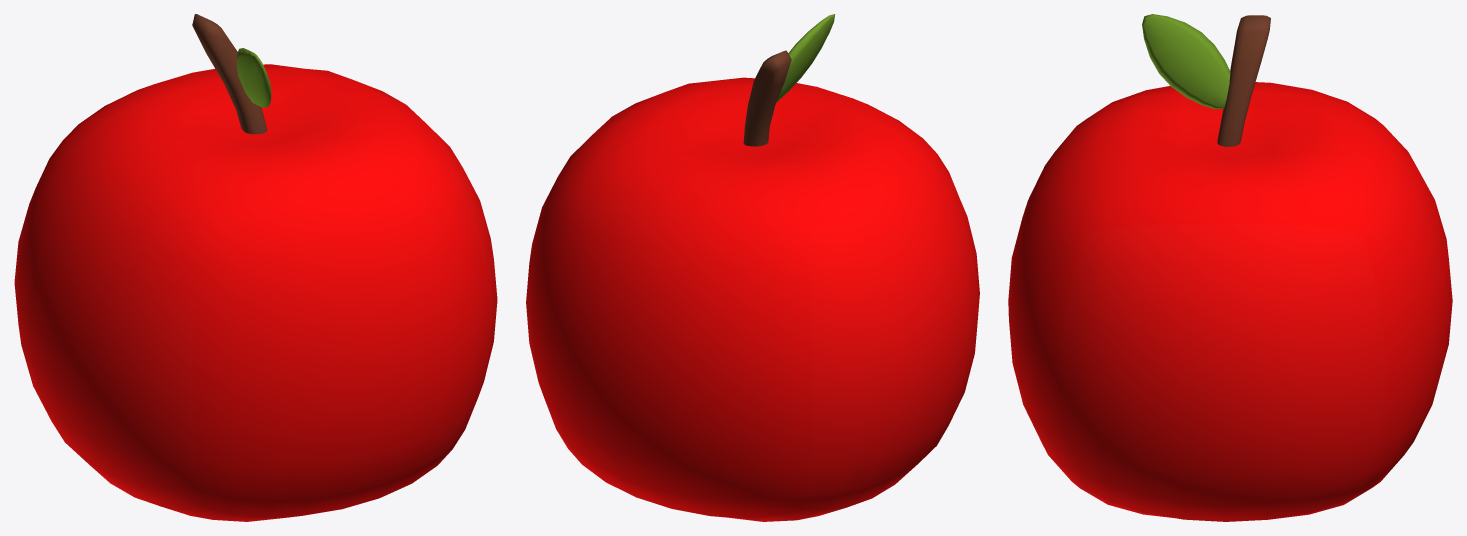
The model's file is apple_standart_high.fbx.
3 renders of one model, left to right at view 1: azimuth 30°, elevation 25°; view 2: azimuth 150°, elevation 25°; view 3: azimuth 270°, elevation 25°, orthographic. The views are drawn at different scales.
Visible parts, largest first — view 1: apple_standart; view 2: apple_standart; view 3: apple_standart.
Part boxes in pixels (box(x1,y1,x2,y2)): apple_standart: box(14, 14, 497, 521); apple_standart: box(526, 14, 979, 521); apple_standart: box(1008, 14, 1452, 521).
Size of the model in its own units: 56.5 by 59.17 by 54.94.
